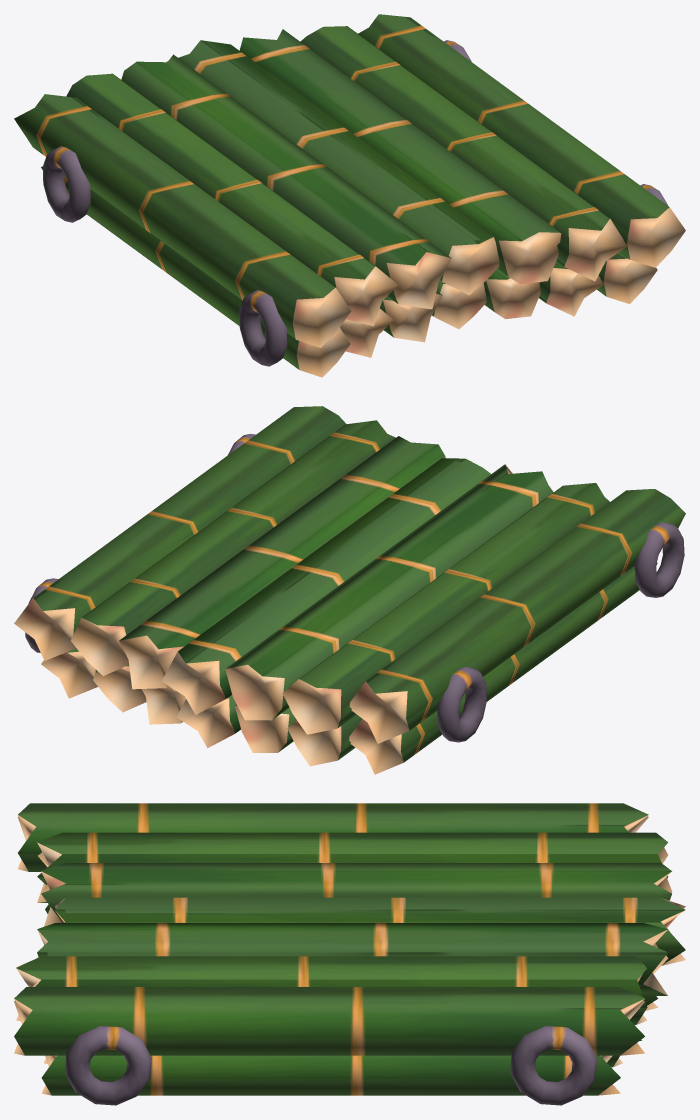
Rendered from raft_2.fbx.
3 views of the same model, one above another, from view 1: azimuth 30°, elevation 25°; view 2: azimuth 150°, elevation 25°; view 3: azimuth 270°, elevation 25° (orthographic). The views are drawn at different scales.
Visible parts, largest first — view 1: mesh_raft6; view 2: mesh_raft6; view 3: mesh_raft6.
Boxes of the visible parts, x1,y1,x2,y2 form: mesh_raft6: (14, 14, 685, 377); mesh_raft6: (14, 406, 685, 774); mesh_raft6: (14, 803, 685, 1105).
Size of the model in its own units: 0.4146 by 0.0865 by 0.5088.
